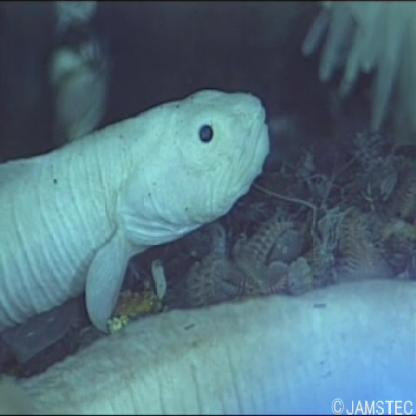Bio: (1, 81, 273, 336)
